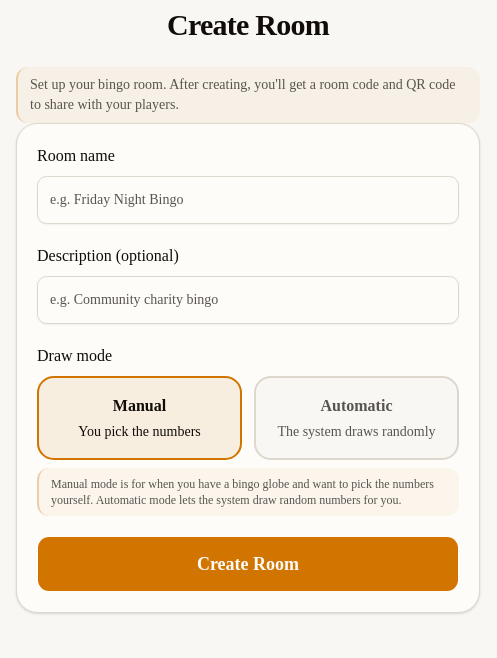
Test: Create Room Page › shows conflict error on 409
Type "Taken" into the field with placeholder "e.g. Friday Night Bingo".
click(248, 200); type("Taken")  # box [37,176,459,224]
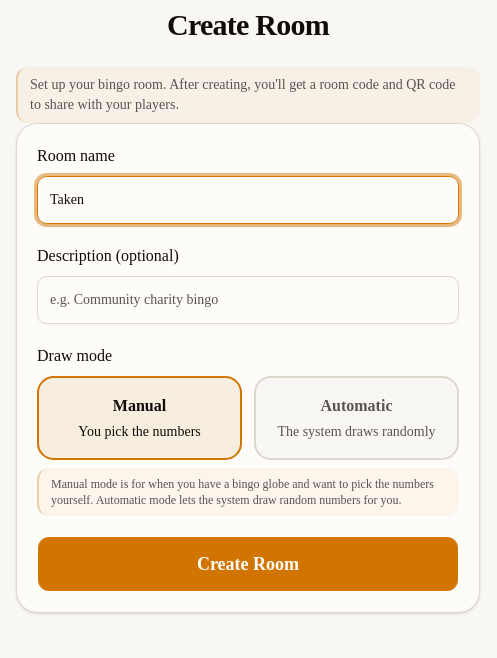
Click the button "Create Room".
click(248, 564)  # box [37,536,459,592]
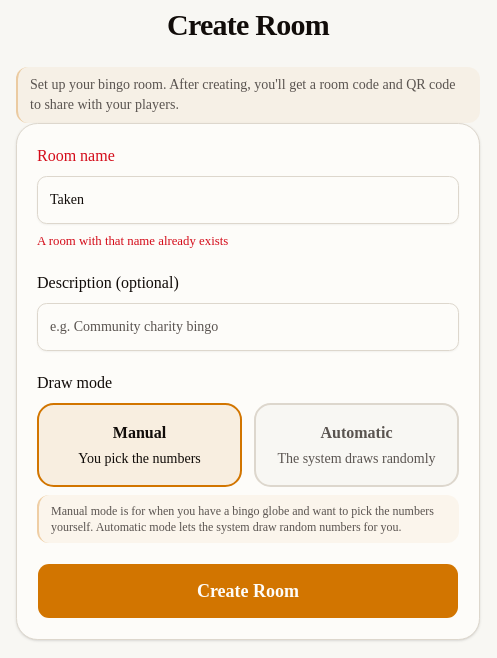
Check: the text "A room with that name already exists" is shown, box [37,234,228,248]
